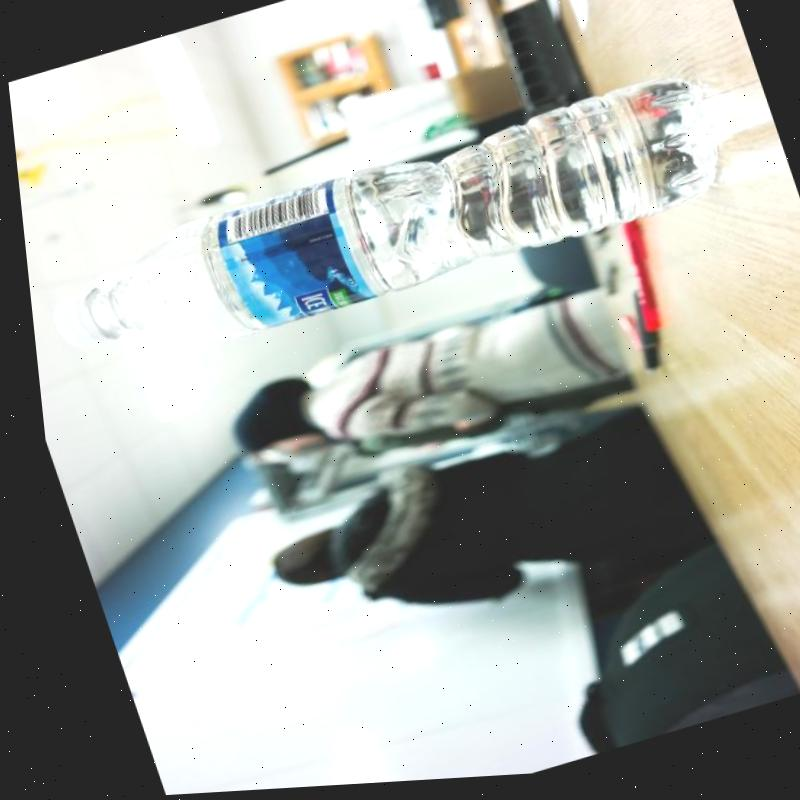botella: (14, 75, 740, 388)
